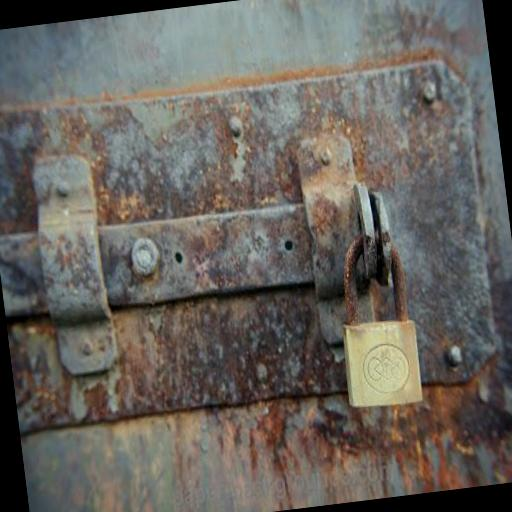segmentation: (0, 60, 494, 380), (7, 285, 345, 432), (99, 204, 313, 306), (419, 310, 485, 382), (343, 236, 363, 323), (397, 259, 406, 318)
